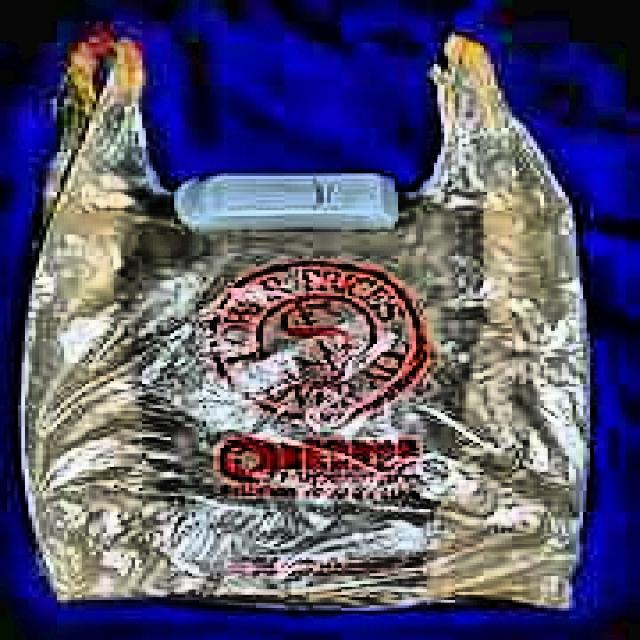Plastic: (23, 30, 596, 623)
